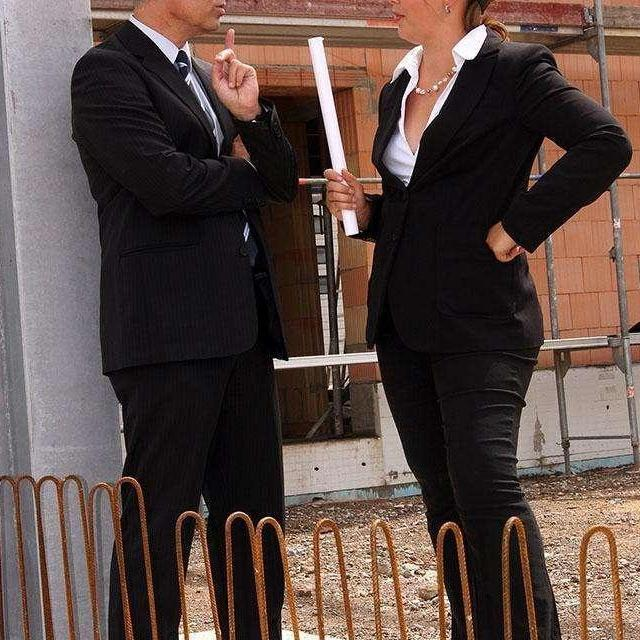NO-Mask: (389, 0, 447, 40), (164, 0, 228, 30)
NO-Safety Vest: (75, 44, 275, 352), (377, 33, 536, 318)
Person: (325, 0, 630, 640), (69, 0, 359, 640)
